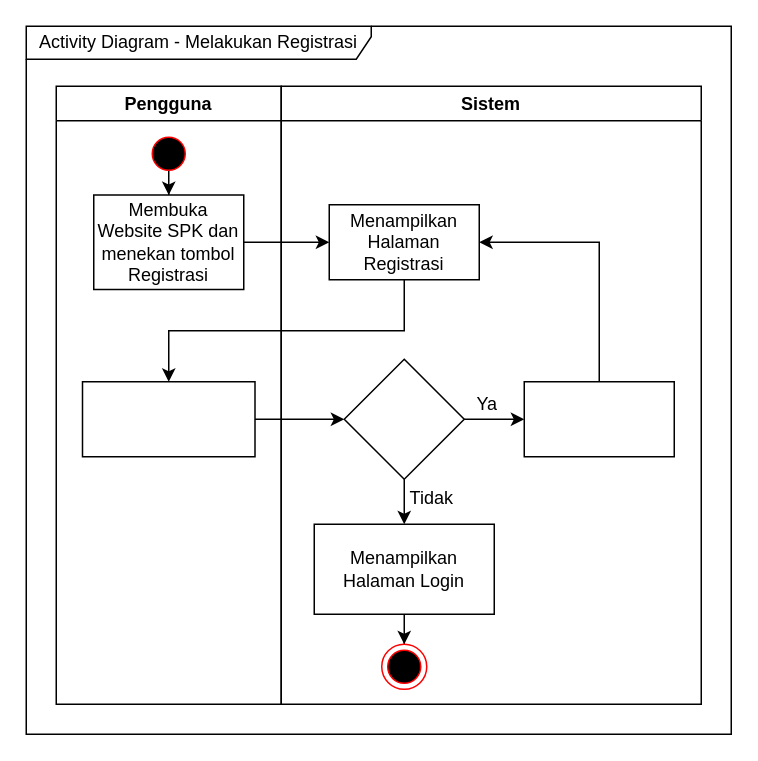
This 758x761 diagram has some shape labels left out. The shapes that lost their labels are listed below. From the top down, each one's centre as x and y in pixels, then its label:
the point at 168,418: Mengisi Nama Lengkap, Username & Password
the point at 403,418: Username sudah ada?
the point at 598,418: Menampilkan Pesan Gagal Registrasi
